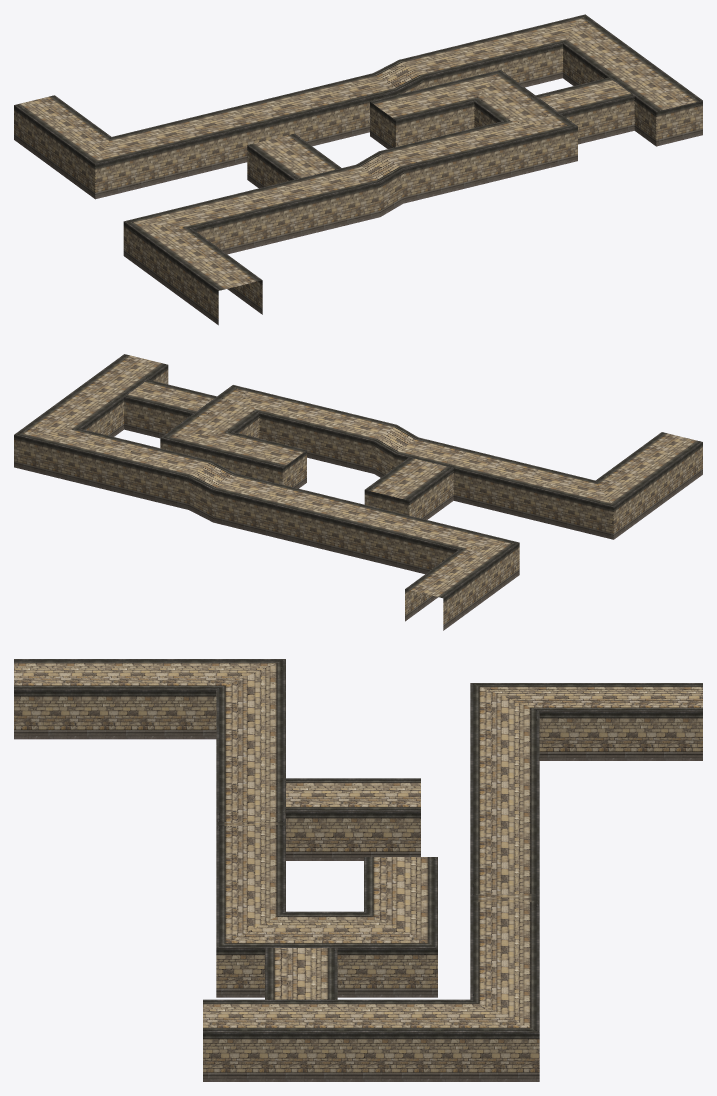
File: Old_PhoenixCastle_Block_wall01.FBX
3 views of the same model, one above another, from view 1: azimuth 30°, elevation 25°; view 2: azimuth 150°, elevation 25°; view 3: azimuth 270°, elevation 25° (orthographic). The views are drawn at different scales.
Parts seen in each view (by area): view 1: Object006; view 2: Object006; view 3: Object006.
Part boxes in pixels (<box>): Object006: <box>14,14,702,325</box>; Object006: <box>14,354,702,630</box>; Object006: <box>14,659,702,1081</box>.
Size of the model in its own units: 9178 by 678 by 6953.
Materials: 2 (2 with a texture image).
